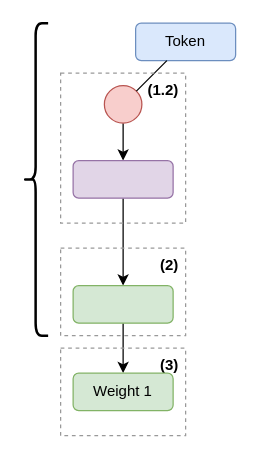
Some shapes in this 258 by 458 pixel diagram are drawn without their labels. The centre of each missing label's shape, as x and y in pixels:
Key 1: the point at 122,178
Score 1: the point at 122,303
W k: the point at 122,103
